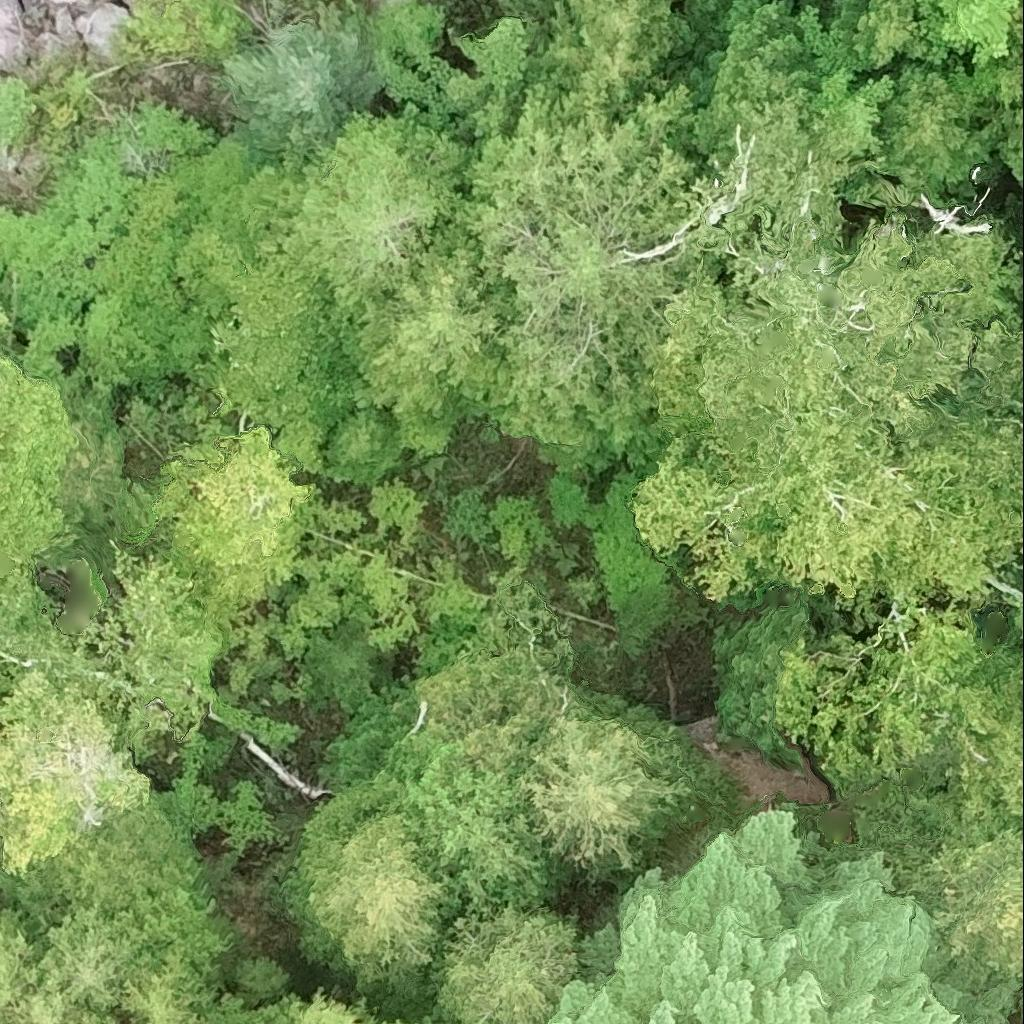crown: (448, 16, 732, 471), (633, 366, 1003, 630), (650, 214, 1022, 448), (555, 814, 957, 1023), (321, 656, 582, 918), (0, 538, 216, 761), (154, 423, 364, 648), (267, 104, 475, 318), (683, 58, 868, 283), (774, 611, 996, 793), (346, 223, 501, 452), (289, 783, 457, 982), (0, 794, 199, 960), (0, 673, 152, 877), (896, 323, 1023, 563), (39, 864, 235, 1013), (519, 715, 689, 870), (231, 21, 386, 151), (871, 67, 1001, 205), (0, 356, 76, 592), (525, 0, 690, 108), (434, 908, 580, 1023), (186, 232, 325, 339), (949, 629, 1023, 824), (931, 833, 1023, 978), (958, 0, 1023, 186), (210, 319, 315, 432), (117, 944, 234, 1023), (914, 0, 1019, 68), (0, 906, 50, 1009), (0, 977, 88, 1023), (207, 994, 311, 1023), (292, 989, 377, 1023), (1008, 592, 1023, 689), (81, 1012, 111, 1023), (415, 1017, 431, 1023), (392, 1022, 402, 1023), (382, 1022, 386, 1023)
